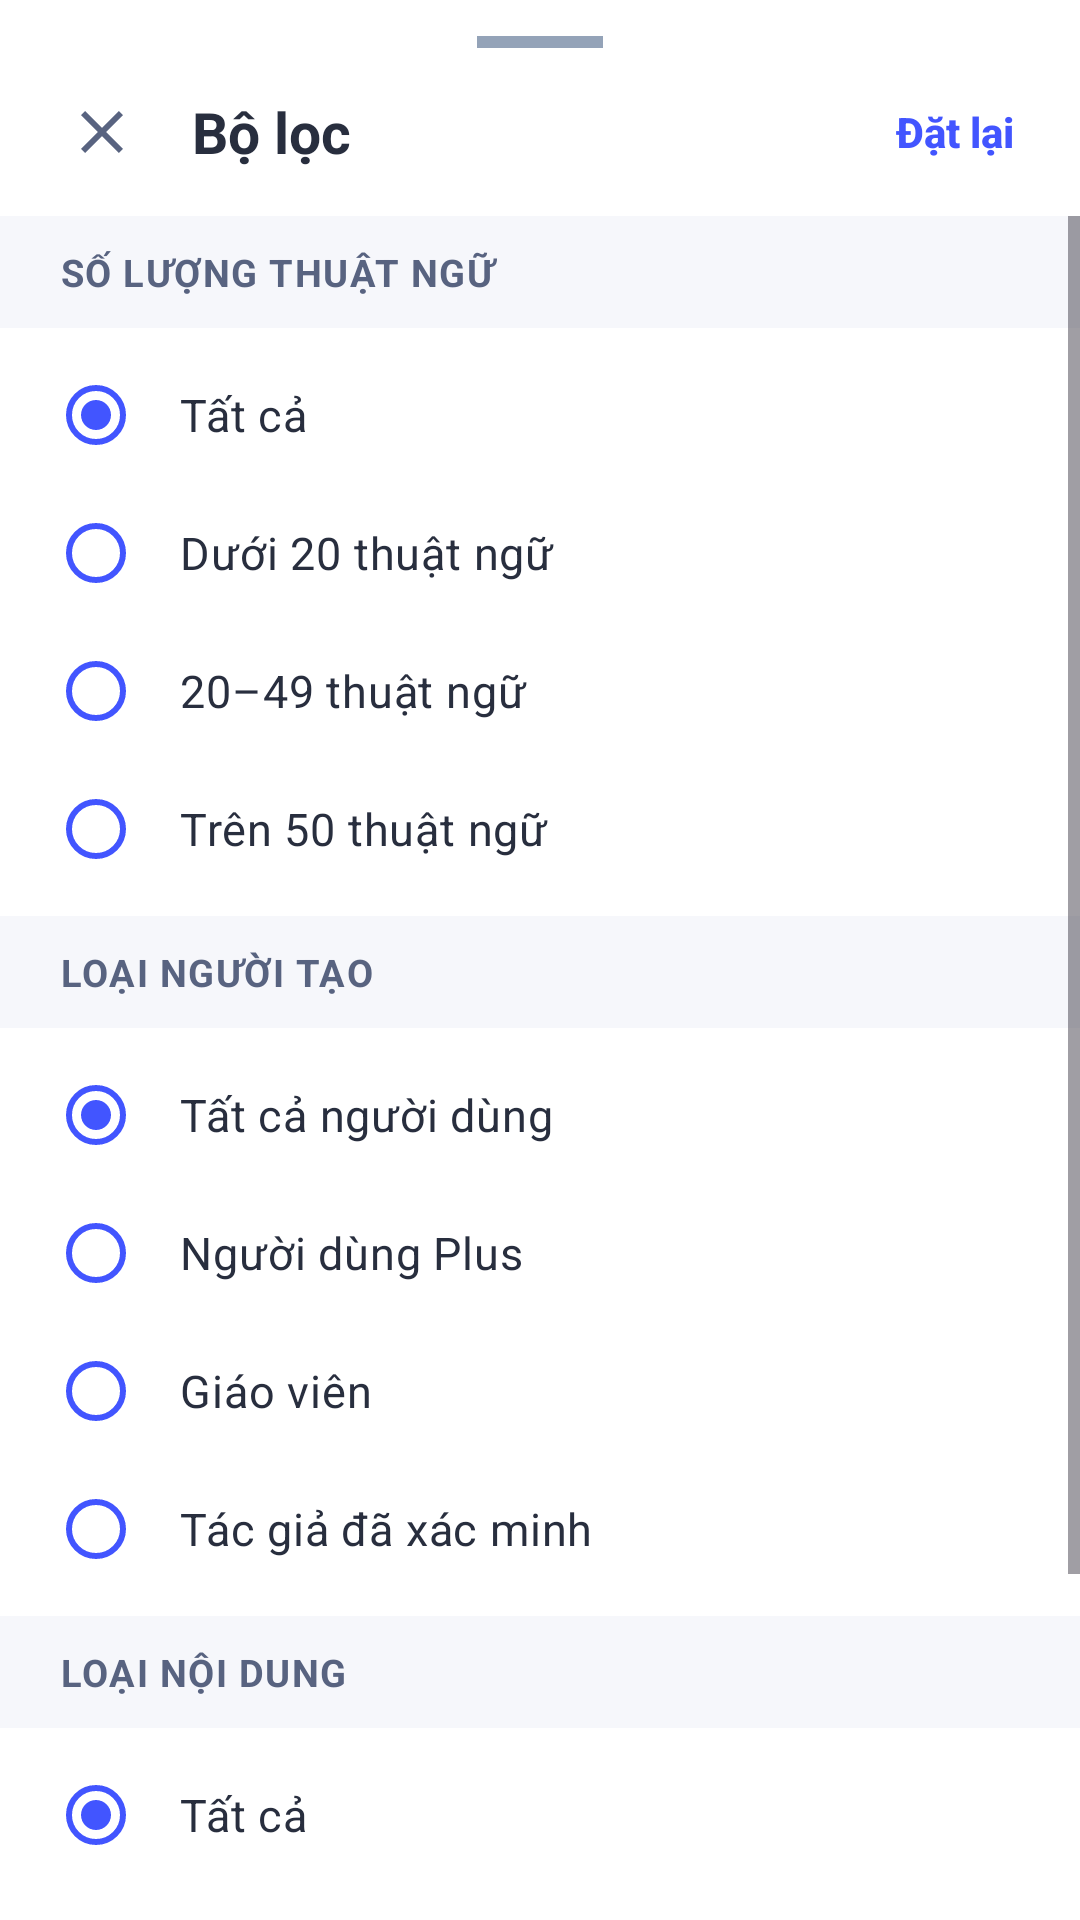

Screen size 1080px×1920px. Icon name, then its box in pixels as rect(x1, y1, x2, y2):
Đóng: rect(81, 111, 123, 153)
